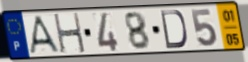4: (96, 11, 120, 53)
5: (189, 7, 218, 48)
8: (124, 11, 151, 51)
A: (28, 14, 62, 55)
D: (159, 9, 189, 50)
H: (52, 12, 88, 56)
